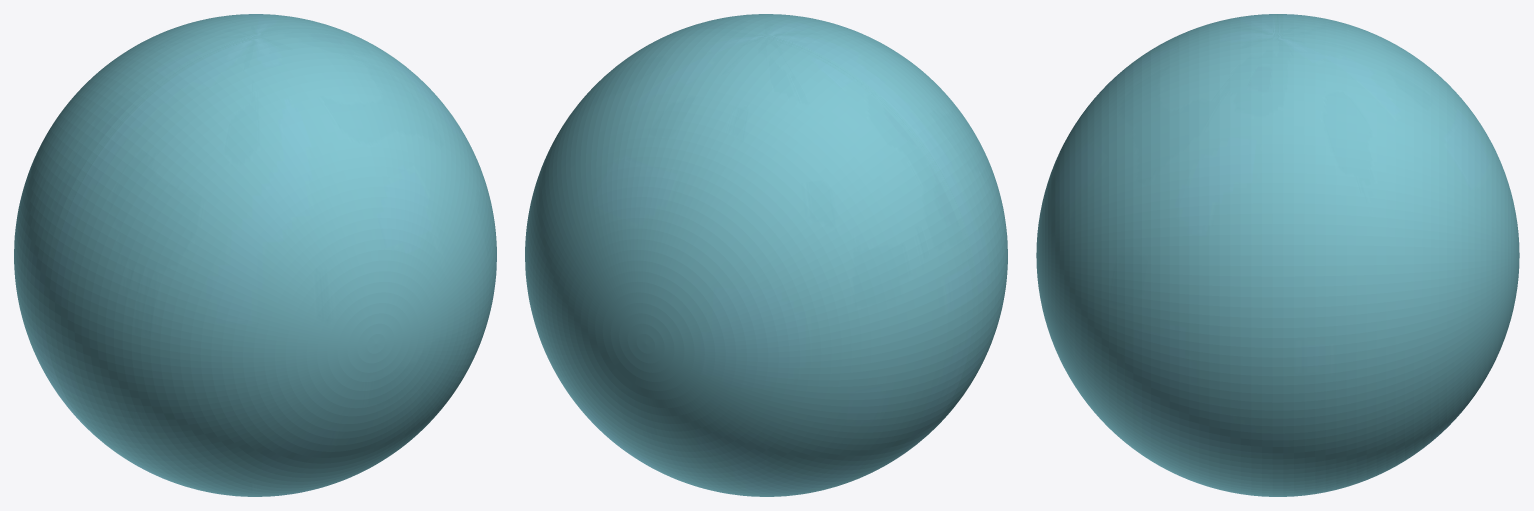
The model's file is uranus.glb.
3 renders of one model, left to right at view 1: azimuth 30°, elevation 25°; view 2: azimuth 150°, elevation 25°; view 3: azimuth 270°, elevation 25°, orthographic.
Parts seen in each view (by area): view 1: world; view 2: world; view 3: world.
Boxes of the visible parts, bbox=[...] form: world: bbox=[14, 14, 496, 496]; world: bbox=[525, 14, 1007, 496]; world: bbox=[1036, 14, 1519, 496].
Bounding box in the file's own units: 2 × 2 × 2.
1 material, 1 textured.
